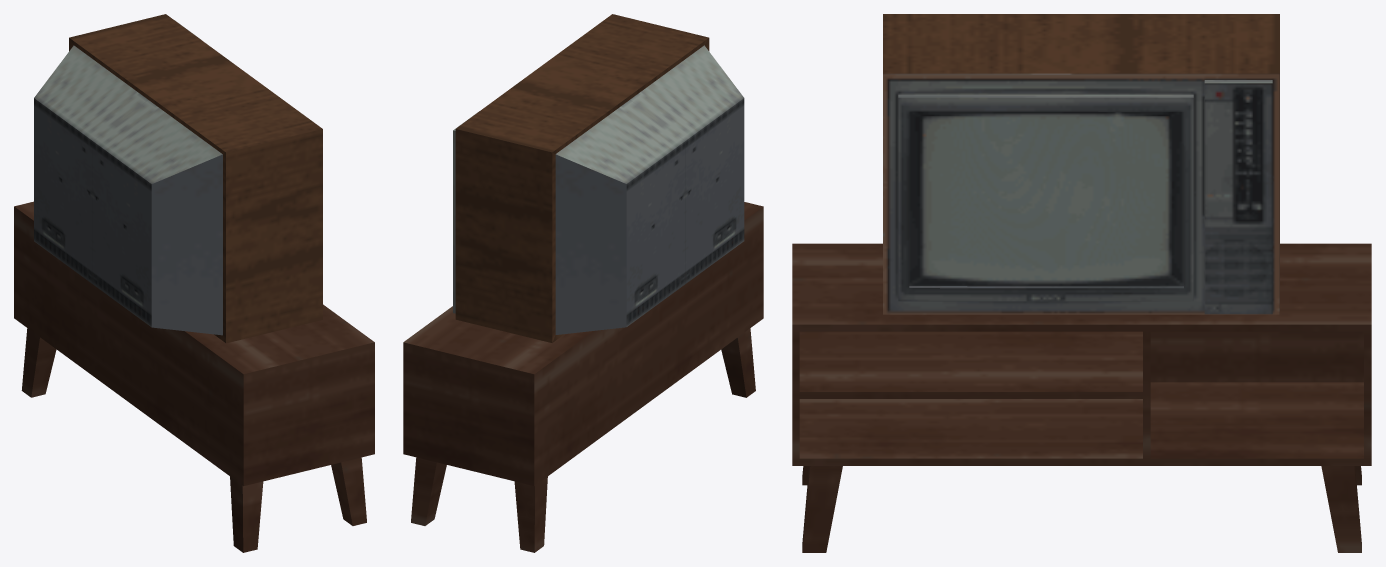
The model's file is tv_and_stol.fbx.
3 views of the same model, side by side, from view 1: azimuth 30°, elevation 25°; view 2: azimuth 150°, elevation 25°; view 3: azimuth 270°, elevation 25° (orthographic). The views are drawn at different scales.
Parts seen in each view (by area): view 1: TV Front Panel 01, proxy_Tvstand; view 2: TV Front Panel 01, proxy_Tvstand; view 3: TV Front Panel 01, proxy_Tvstand.
Part boxes in pixels (x1,y1,x2,y2): TV Front Panel 01: (34, 14, 322, 343); proxy_Tvstand: (14, 201, 374, 552); TV Front Panel 01: (453, 14, 744, 342); proxy_Tvstand: (403, 202, 763, 552); TV Front Panel 01: (883, 14, 1279, 314); proxy_Tvstand: (792, 243, 1371, 552).
Size of the model in its own units: 76.1 by 162 by 181.
2 materials, 2 textured.
